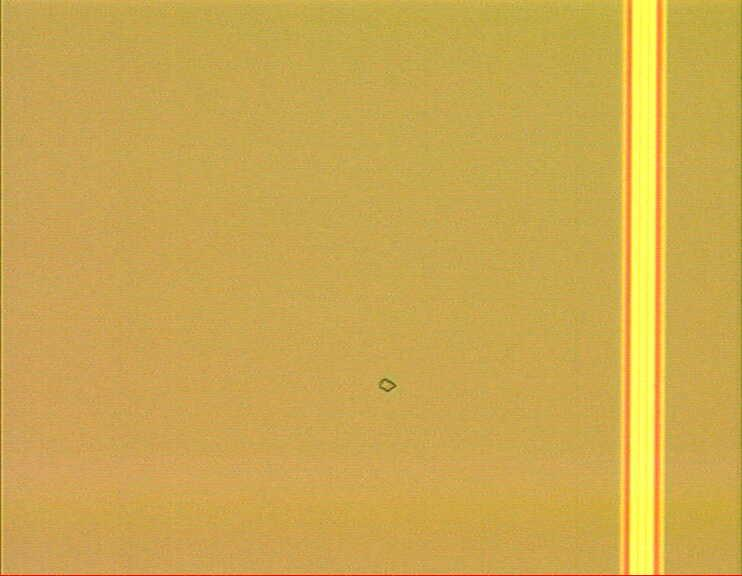PIQ PARTICLE: (373, 374, 401, 402)
